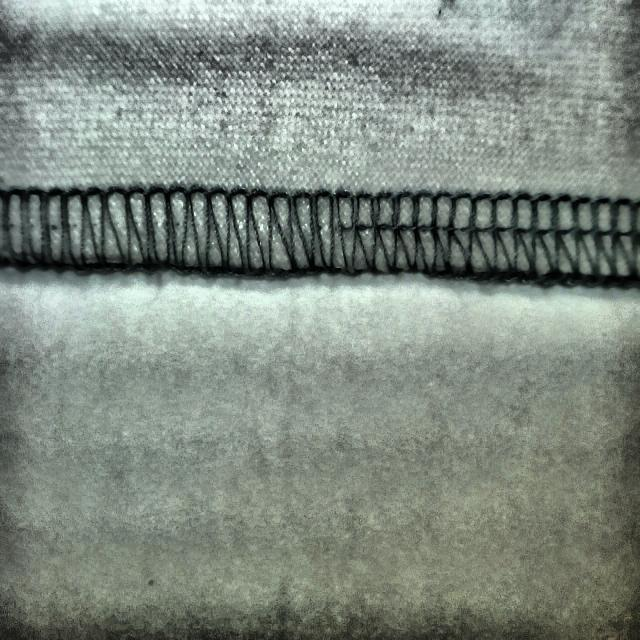Stitch: (112, 179, 584, 278)
